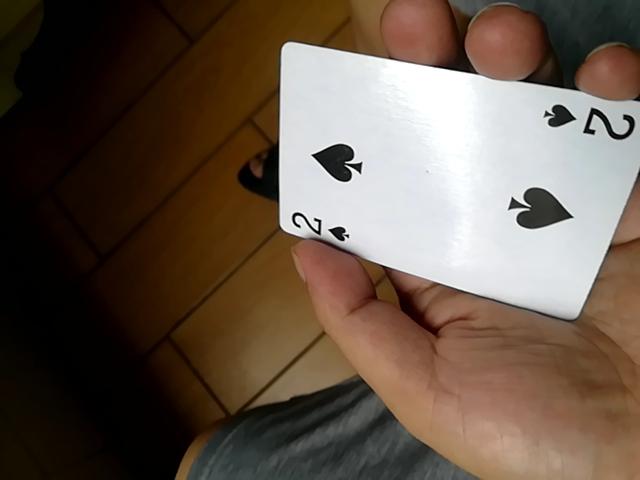ht 2: (278, 41, 640, 320)
